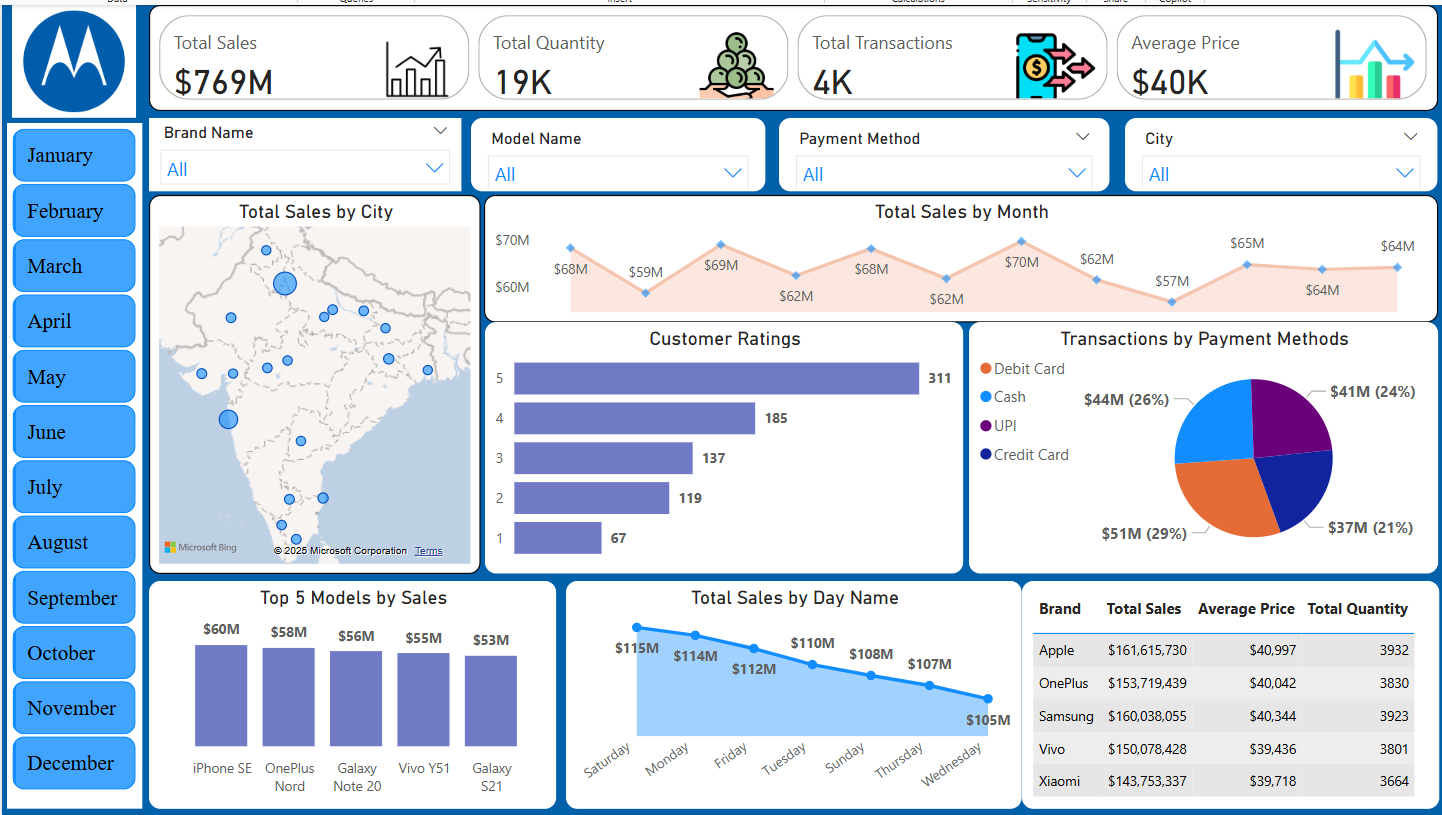

Layout of this report page (visuals, bound fields, positions):
{"tool":"powerbi","page":{"name":"Page 1","canvas":[1280,720],"ordinal":0},"visuals":[{"type":"shape","box":[4,104.8,119.9,585.6],"z":0},{"type":"image","box":[9.1,0,109.9,99.8],"z":1000},{"type":"advancedSlicerVisual","fields":{"Values":["sales_data.Date.Variation.Date Hierarchy.Month"]},"box":[4,104.8,119.9,607.7],"z":2000},{"type":"cardVisual","fields":{"Data":["sales_data.Total Sales","sales_data.Total Quantity","sales_data.Total Transactions","sales_data.Average"]},"box":[130,0,1142.9,93.7],"z":3000},{"type":"map","fields":{"Category":["sales_data.City"],"Size":["sales_data.Total Sales"]},"box":[130,168.3,294.3,335.6],"z":4000},{"type":"lineChart","fields":{"Category":["sales_data.Date.Variation.Date Hierarchy.Month","sales_data.Date.Variation.Date Hierarchy.Day"],"Y":["sales_data.Total Sales"]},"box":[427.3,168.3,845.6,112.9],"z":5000},{"type":"columnChart","title":"Top 5 Models by Sales","fields":{"Category":["sales_data.Mobile Model"],"Y":["sales_data.Total Sales"]},"box":[130,511,360.8,201.6],"z":6000},{"type":"pieChart","title":"Transactions by Payment Methods","fields":{"Category":["sales_data.Payment Method"],"Y":["sales_data.Total Sales"]},"box":[857.4,281.1,415.9,222.6],"z":6001},{"type":"clusteredBarChart","title":"Customer Ratings","fields":{"Category":["sales_data.Customer Ratings"],"Y":["CountNonNull(sales_data.Customer Ratings)"]},"box":[428.3,281.1,423.8,222.6],"z":6002},{"type":"areaChart","fields":{"Y":["sales_data.Total Sales"],"Category":["sales_data.Day Name"]},"box":[499.9,511,404.2,201.6],"z":6003},{"type":"tableEx","fields":{"Values":["sales_data.Brand","sales_data.Total Sales","sales_data.Average Price","sales_data.Total Quantity"]},"box":[904.1,511,369.9,201.6],"z":6004},{"type":"slicer","fields":{"Values":["sales_data.Brand"]},"box":[130,99.8,277.2,64.5],"z":6005},{"type":"slicer","fields":{"Values":["sales_data.Mobile Model"]},"box":[416.3,99.8,261,64.5],"z":6006},{"type":"slicer","fields":{"Values":["sales_data.Payment Method"]},"box":[689.4,99.8,293.3,64.5],"z":6007},{"type":"slicer","fields":{"Values":["sales_data.City"]},"box":[995.8,99.8,277.2,64.5],"z":6008}]}

Visuals, with their boxes in screenshot pixels (x1, y1, x2, y2):
shape: [x1=4, y1=120, x2=138, y2=771]
image: [x1=10, y1=4, x2=132, y2=115]
advancedSlicerVisual - sales_data.Date.Variation.Date Hierarchy.Month: [x1=4, y1=120, x2=138, y2=795]
cardVisual - sales_data.Total Sales x sales_data.Total Quantity: [x1=144, y1=4, x2=1414, y2=108]
map - sales_data.City x sales_data.Total Sales: [x1=144, y1=191, x2=471, y2=564]
lineChart - sales_data.Date.Variation.Date Hierarchy.Month x sales_data.Date.Variation.Date Hierarchy.Day: [x1=475, y1=191, x2=1414, y2=316]
"Top 5 Models by Sales" columnChart: [x1=144, y1=571, x2=545, y2=795]
"Transactions by Payment Methods" pieChart: [x1=953, y1=316, x2=1415, y2=563]
"Customer Ratings" clusteredBarChart: [x1=476, y1=316, x2=947, y2=563]
areaChart - sales_data.Total Sales x sales_data.Day Name: [x1=555, y1=571, x2=1004, y2=795]
tableEx - sales_data.Brand x sales_data.Total Sales: [x1=1004, y1=571, x2=1415, y2=795]
slicer - sales_data.Brand: [x1=144, y1=115, x2=452, y2=186]
slicer - sales_data.Mobile Model: [x1=463, y1=115, x2=752, y2=186]
slicer - sales_data.Payment Method: [x1=766, y1=115, x2=1092, y2=186]
slicer - sales_data.City: [x1=1106, y1=115, x2=1414, y2=186]
